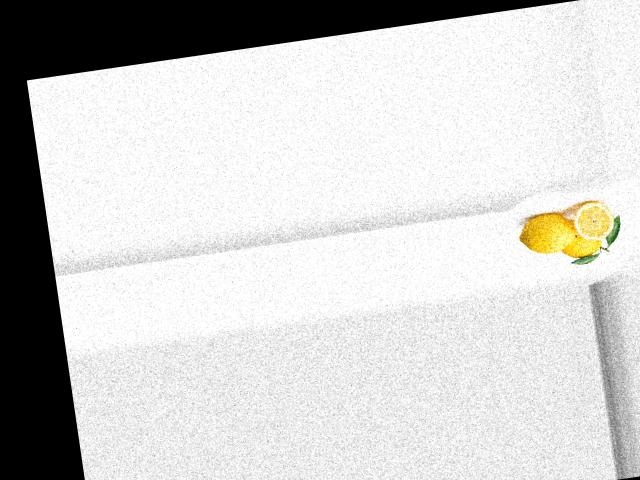lemon: (554, 218, 609, 262)
